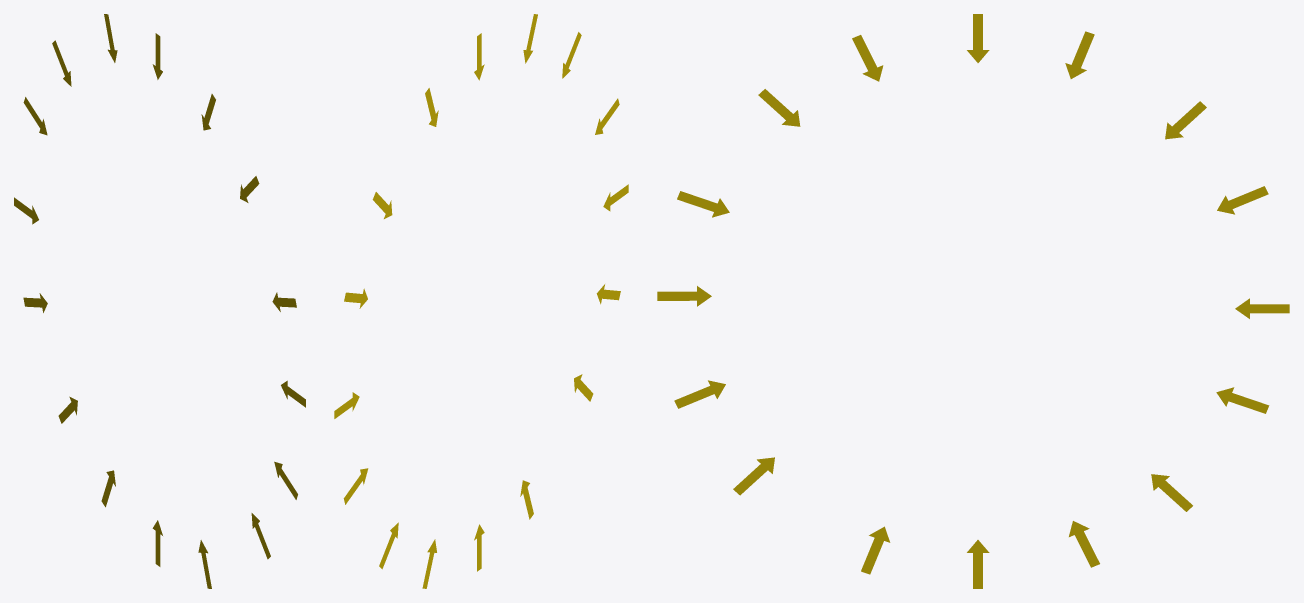
The picture shows the model from 3 angles, left to right: view 1: azimuth 30°, elevation 25°; view 2: azimuth 150°, elevation 25°; view 3: azimuth 270°, elevation 25°; orthographic projection. The views are drawn at different scales.
Size of the model in its own units: 8.16e-05 by 71.51 by 71.25.
